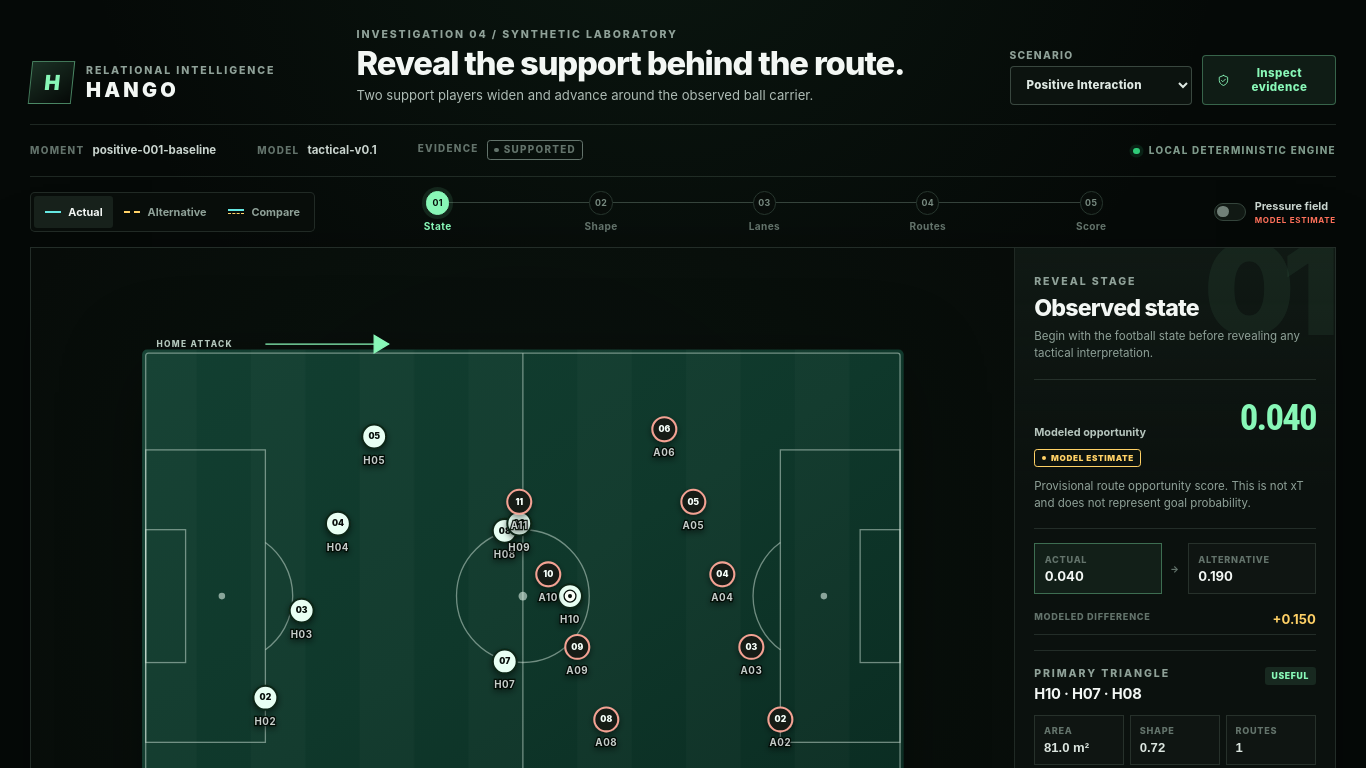
InvestigationWorkspace › presents replay failures without replacing authoritative evidence
Click the button "Inspect evidence" at (1269, 80), box [1202,55,1336,105]
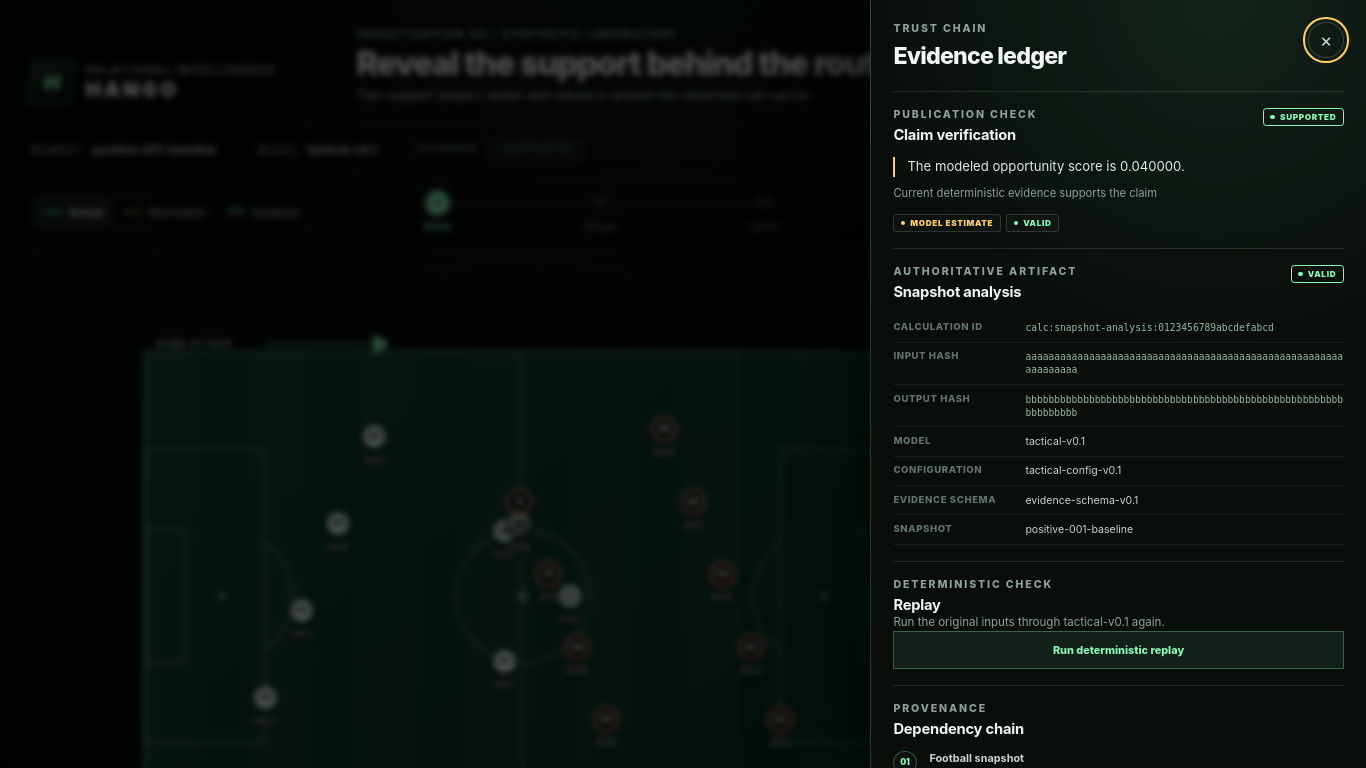
Click the button "Run deterministic replay" at (1118, 650), box [893,631,1344,669]
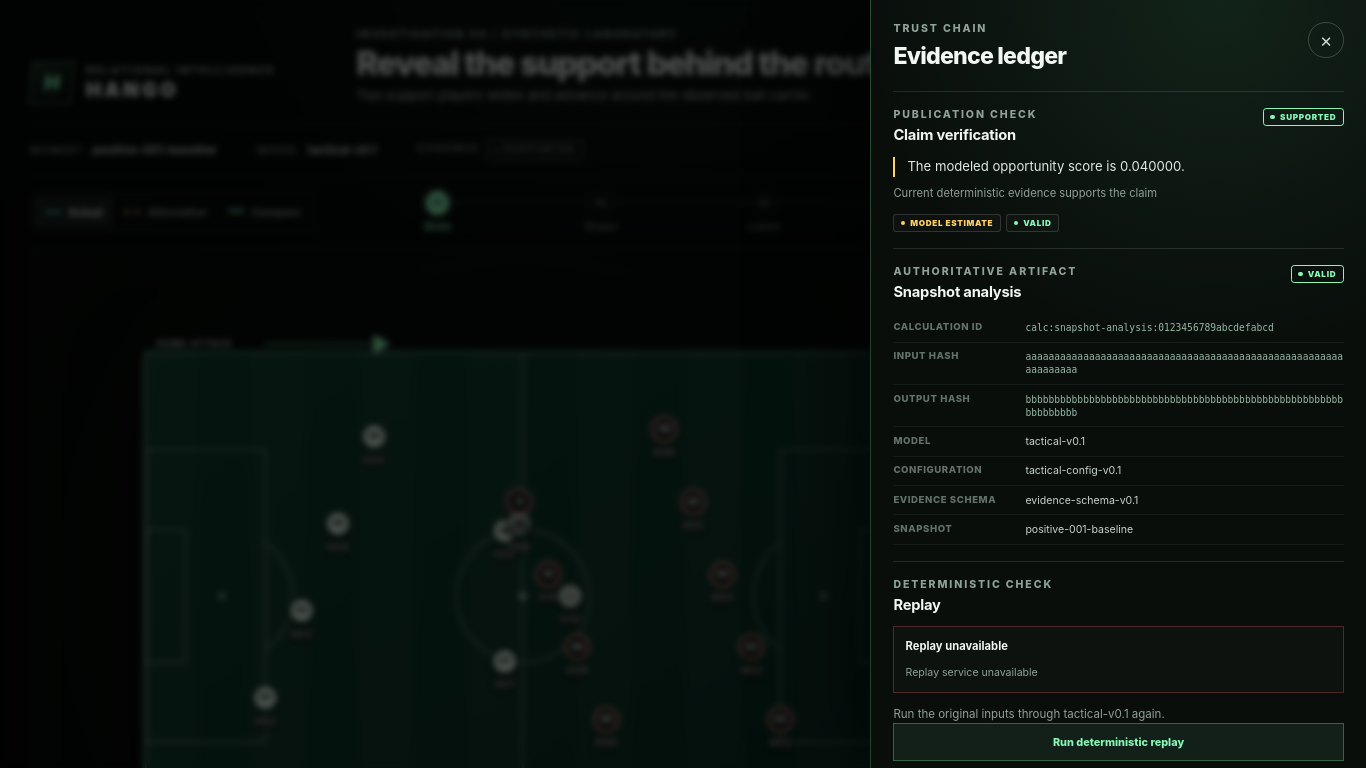
Expected: the message shows "Replay service unavailable", [906,666,1038,679]
